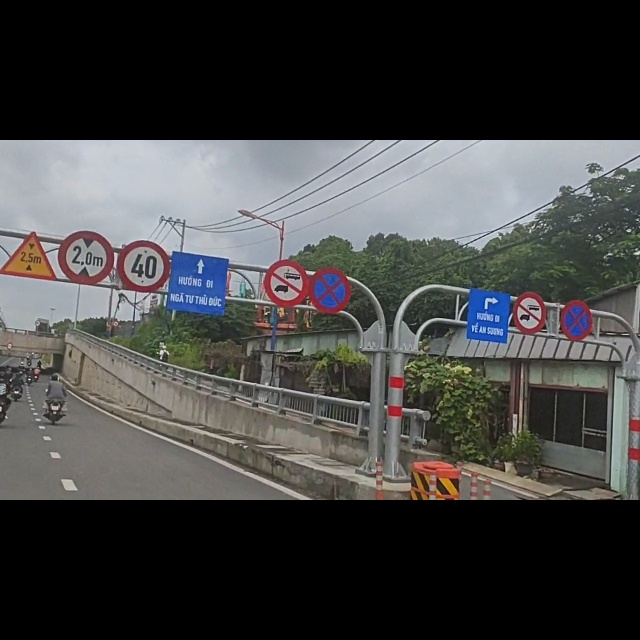bien_cam: (117, 173, 170, 276), (60, 159, 114, 260), (1, 160, 58, 255), (261, 211, 311, 300), (312, 224, 352, 314), (512, 269, 548, 348), (560, 283, 593, 361)
